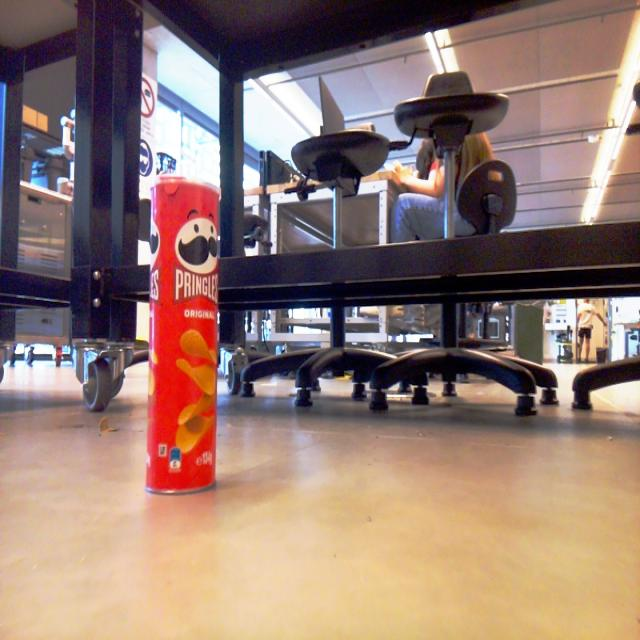redpringles: (139, 165, 230, 509)
